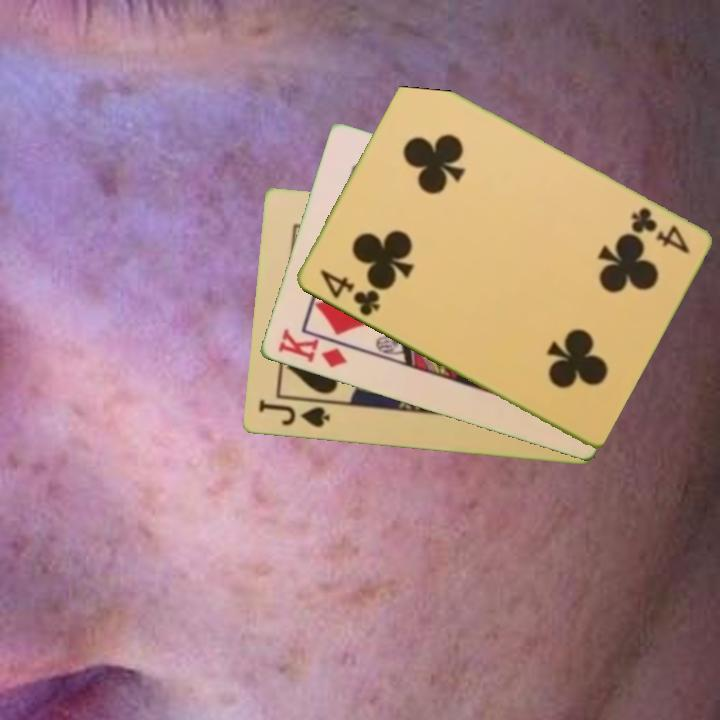4c: (316, 266, 383, 320), (626, 204, 693, 257)
Js: (254, 396, 333, 431)
Kd: (274, 325, 349, 371)
